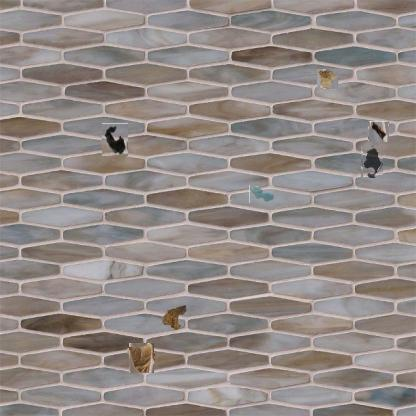dirty: (102, 123, 128, 156), (128, 344, 156, 372), (160, 304, 188, 332), (368, 121, 389, 142), (317, 69, 338, 89)
liquid: (362, 146, 384, 178), (249, 185, 274, 203)
